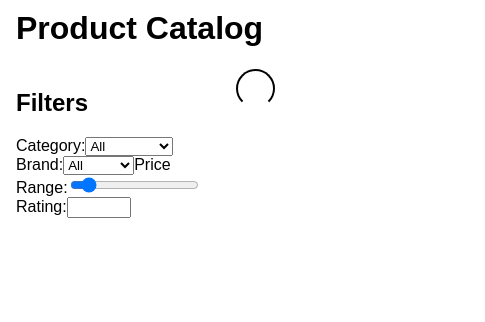
Scenario: Product Catalog › filters products by price range
Set the slider labelled "Price Range:" to "100" at coordinates (100, 185), box left=70, top=177, right=199, bottom=193
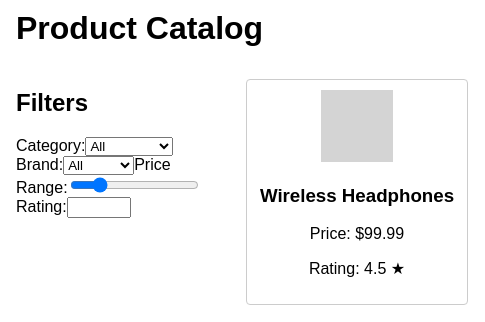
Expected: the heading "Wireless Headphones" is shown, left=257, top=185, right=457, bottom=207
